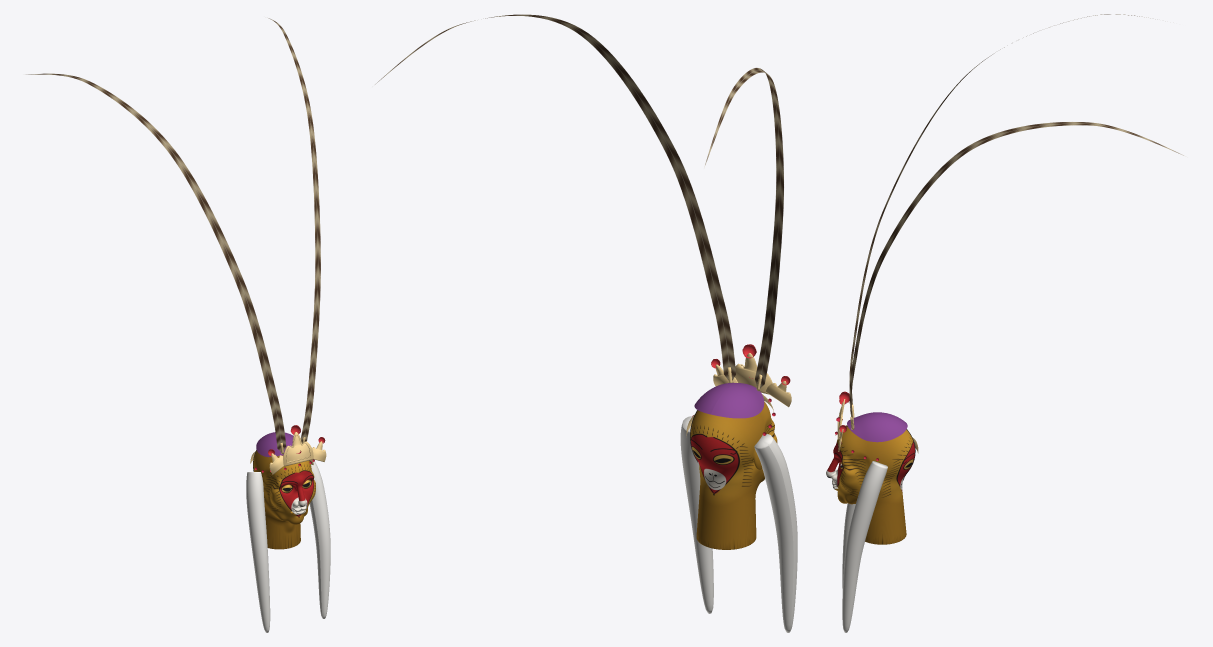
File: head_sunwukong.glb
The picture shows the model from 3 angles, left to right: view 1: azimuth 30°, elevation 25°; view 2: azimuth 150°, elevation 25°; view 3: azimuth 270°, elevation 25°; orthographic projection. The views are drawn at different scales.
Parts seen in each view (by area): view 1: Lingzi, Fur_Hushen, Face, Guan_Gold, Guan_Cap; view 2: Face, Lingzi, Fur_Hushen, Guan_Cap, Guan_Gold; view 3: Face, Lingzi, Fur_Hushen, Guan_Cap.
Part boxes in pixels (x1=…): Lingzi: x1=26, y1=18, x2=320, y2=451; Fur_Hushen: x1=246, y1=461, x2=330, y2=632; Face: x1=253, y1=450, x2=315, y2=549; Guan_Gold: x1=250, y1=432, x2=326, y2=474; Guan_Cap: x1=256, y1=432, x2=293, y2=457; Face: x1=690, y1=401, x2=777, y2=549; Lingzi: x1=375, y1=14, x2=783, y2=388; Fur_Hushen: x1=680, y1=416, x2=797, y2=632; Guan_Cap: x1=694, y1=382, x2=764, y2=418; Guan_Gold: x1=686, y1=353, x2=791, y2=435; Face: x1=826, y1=426, x2=914, y2=544; Lingzi: x1=849, y1=14, x2=1183, y2=426; Fur_Hushen: x1=842, y1=461, x2=887, y2=632; Guan_Cap: x1=847, y1=412, x2=907, y2=442.
Bounding box in the file's own units: 0.8486 × 1.58 × 0.9747.
Materials: 9 (3 with a texture image).
